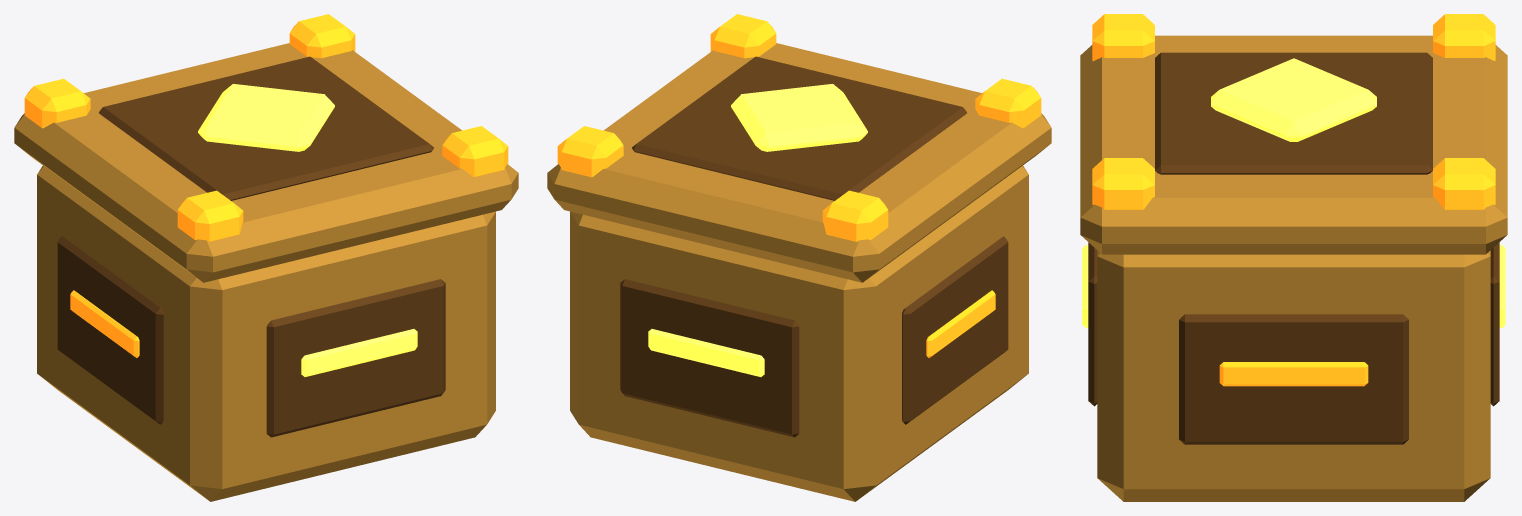
Rendered from PowerCrate.fbx.
3 renders of one model, left to right at view 1: azimuth 30°, elevation 25°; view 2: azimuth 150°, elevation 25°; view 3: azimuth 270°, elevation 25°, orthographic. The views are drawn at different scales.
Visible parts, largest first — view 1: PowerCrate_Body, PowerCrate_Core; view 2: PowerCrate_Body, PowerCrate_Core; view 3: PowerCrate_Body, PowerCrate_Core.
Boxes of the visible parts, x1=… form: PowerCrate_Body: x1=14, y1=14, x2=518, y2=501; PowerCrate_Core: x1=198, y1=84, x2=334, y2=151; PowerCrate_Body: x1=547, y1=14, x2=1051, y2=501; PowerCrate_Core: x1=731, y1=84, x2=867, y2=151; PowerCrate_Body: x1=1080, y1=14, x2=1507, y2=501; PowerCrate_Core: x1=1211, y1=58, x2=1376, y2=141.
Bounding box in the file's own units: 0.89 × 0.7825 × 0.89.
